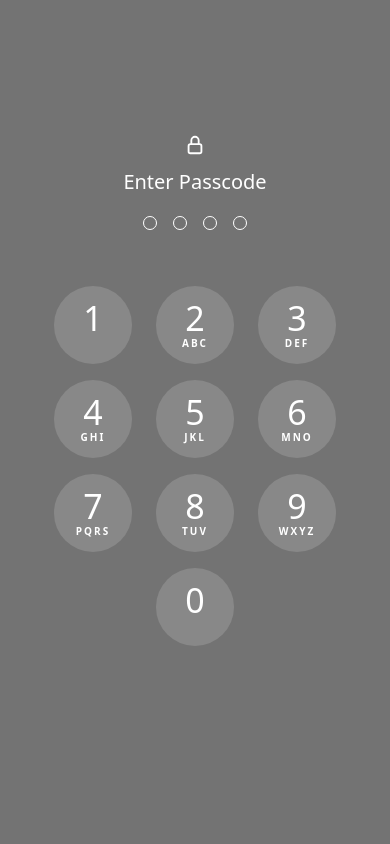
Test: PinPad unlock controls › reports a verification error, unlocks input, and clears the message on the next tap
Press the mouse on the button "1" at (93, 325), box [54,286,132,364]
Press the mouse on the button "2 ABC" at (195, 325), box [156,286,234,364]
Press the mouse on the button "3 DEF" at (297, 325), box [258,286,336,364]
Press the mouse on the button "4 GHI" at (93, 419), box [54,380,132,458]
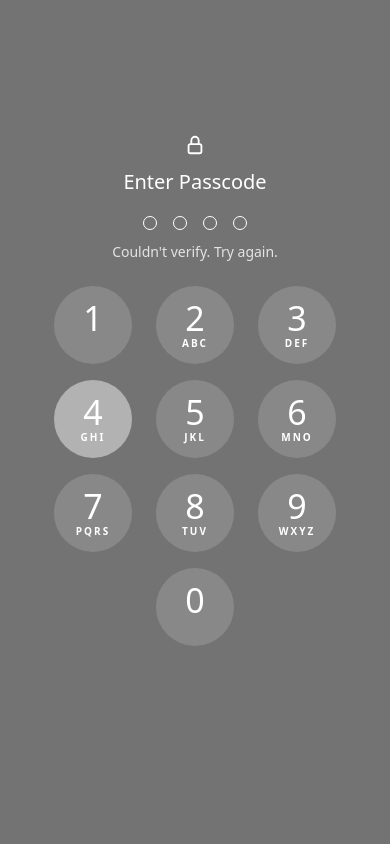
Now the text "Couldn't verify. Try again." is shown, box [112,242,278,262]
Press the mouse on the button "1" at (93, 325), box [54,286,132,364]
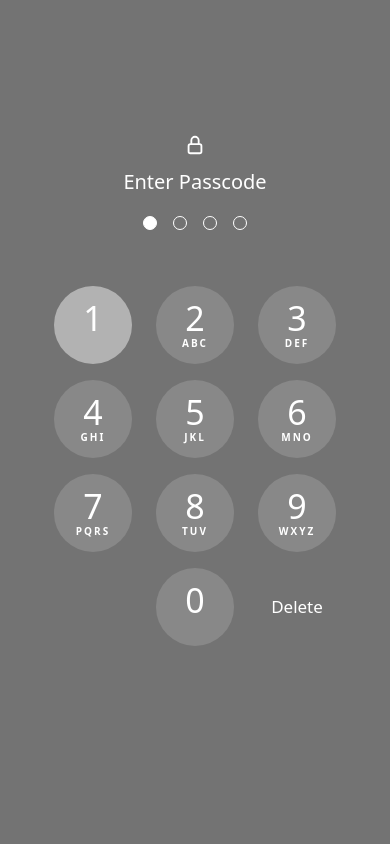
Now the text "Couldn't verify. Try again." is gone
